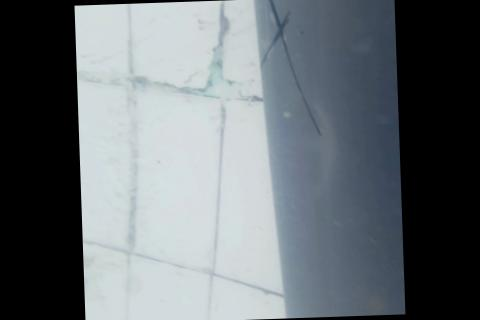keretakan: (255, 0, 324, 139)
